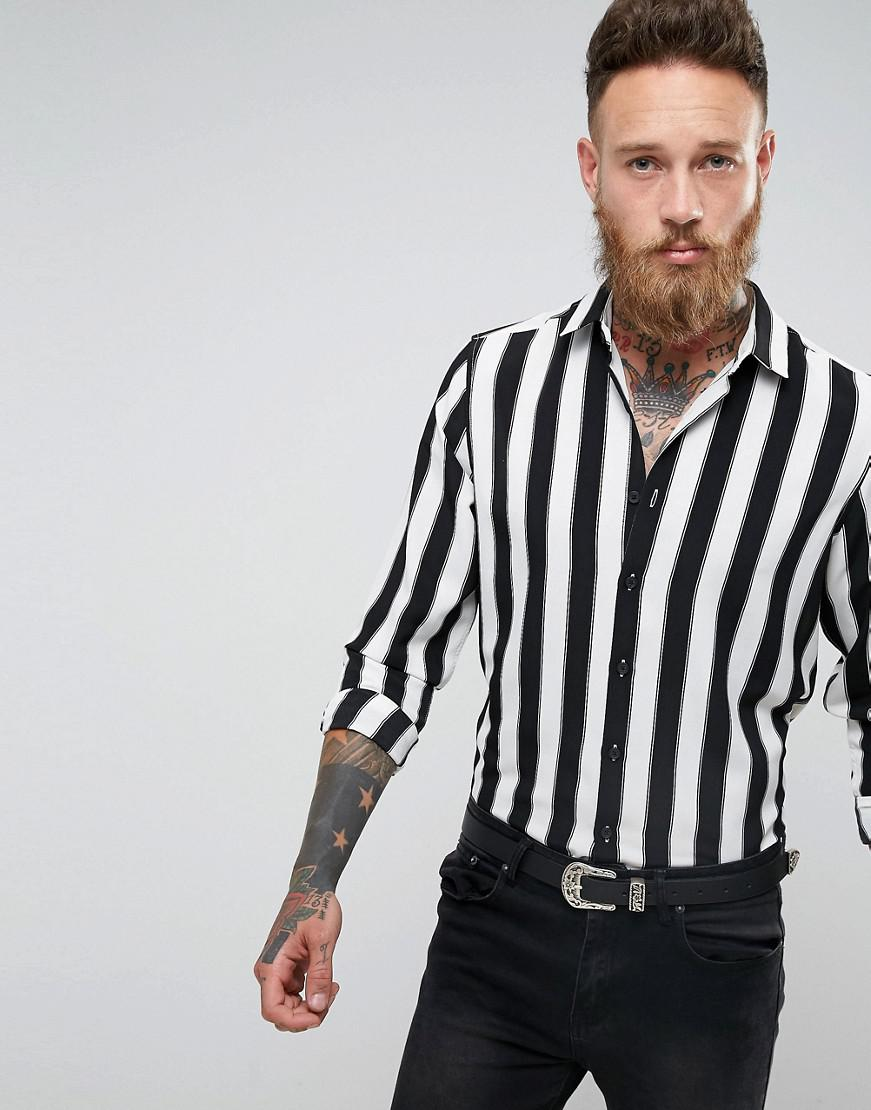teeshirt: (318, 274, 871, 873)
